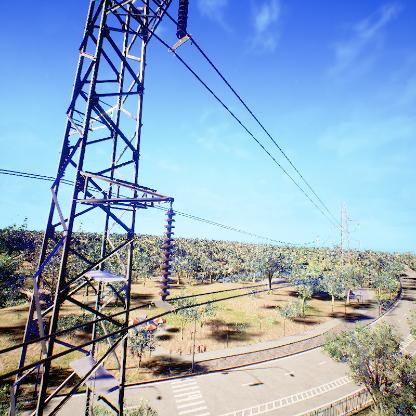insulator: (157, 208, 178, 301)
